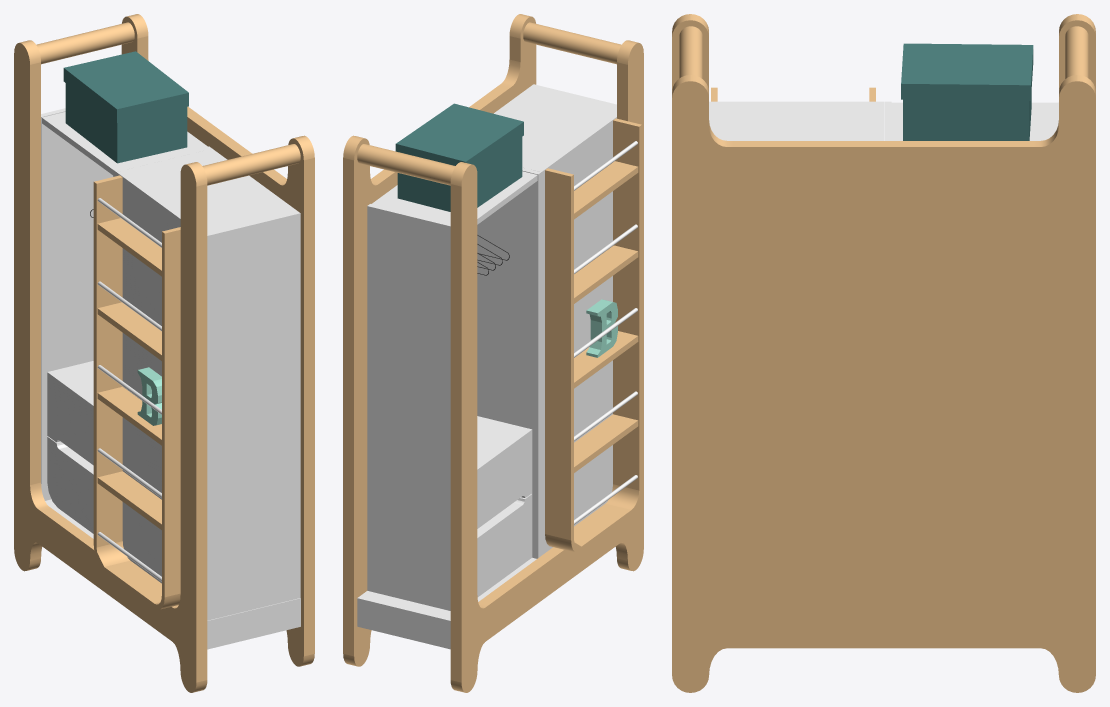
File: Furn4_chest_color1_joined.fbx
3 renders of one model, left to right at view 1: azimuth 30°, elevation 25°; view 2: azimuth 150°, elevation 25°; view 3: azimuth 270°, elevation 25°, orthographic. The views are drawn at different scales.
Parts seen in each view (by area): view 1: Куб.256; view 2: Куб.256; view 3: Куб.256.
Part boxes in pixels (bbox=[...]): Куб.256: bbox=[14, 14, 314, 692]; Куб.256: bbox=[343, 14, 643, 692]; Куб.256: bbox=[672, 14, 1095, 692].
Bounding box in the file's own units: 133 × 502 × 315.
